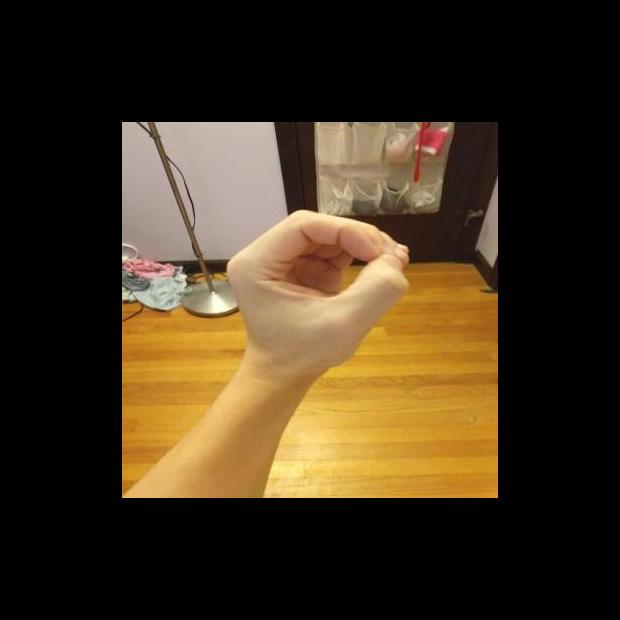N: (221, 203, 415, 376)
